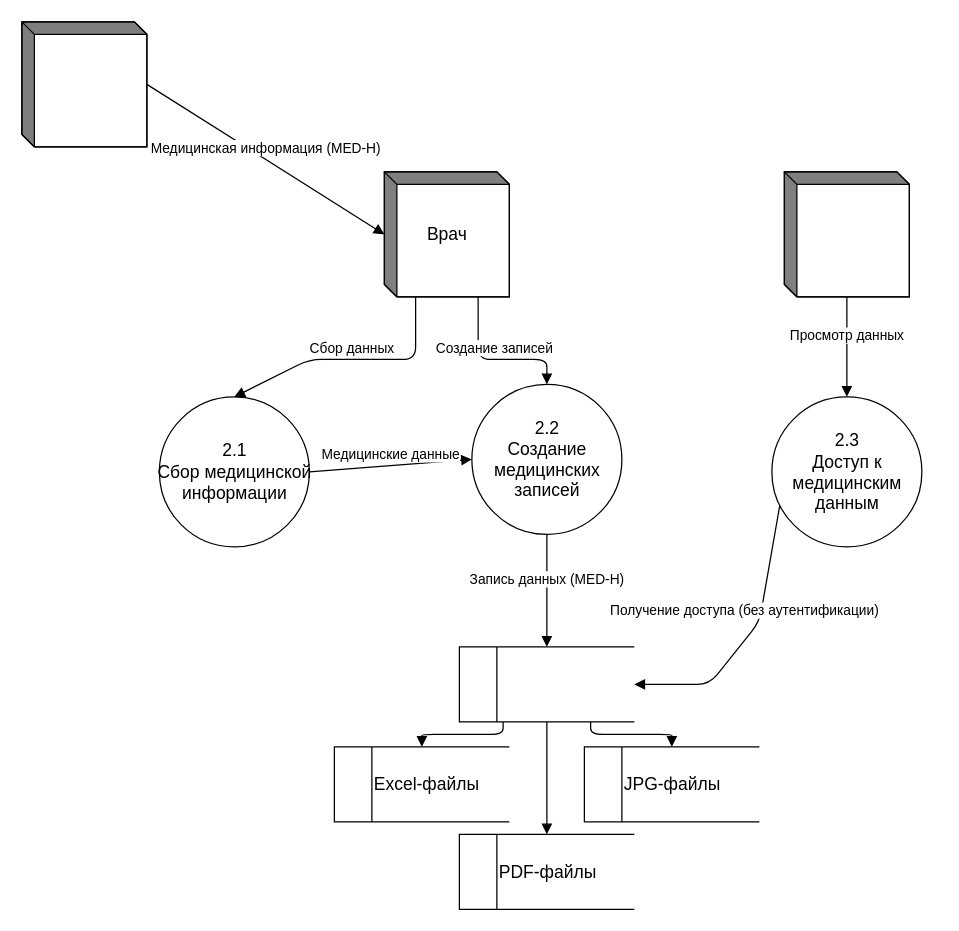
Some shapes in this 959 by 931 pixel diagram are drawn without their labels. The shapes that lost their labels are listed below. From the top down, each one's centre as x and y in pixels, then its label:
At point 84,84: "Пациент".
At point 846,234: "Сотрудник ресепшена".
At point 546,684: "Папка пациента".
